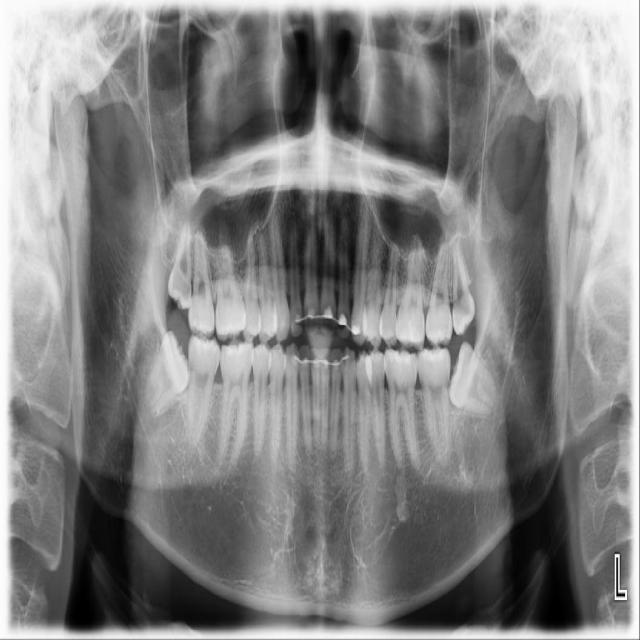impacted tooth: (139, 333, 191, 417), (449, 343, 502, 419)
